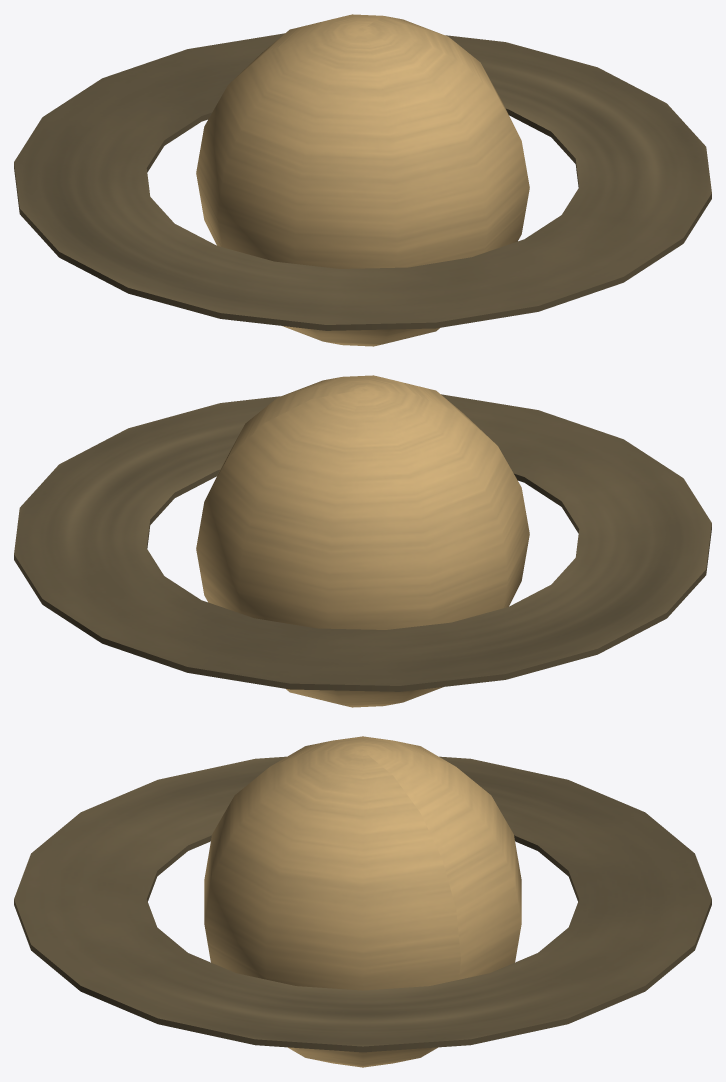
The model's file is dosei.fbx.
The picture shows the model from 3 angles, top to bottom: view 1: azimuth 30°, elevation 25°; view 2: azimuth 150°, elevation 25°; view 3: azimuth 270°, elevation 25°; orthographic projection.
Visible parts, largest first — view 1: pSphere2; view 2: pSphere2; view 3: pSphere2.
Boxes of the visible parts, left/top/right/bottom form: pSphere2: left=14, top=14, right=711, bottom=346; pSphere2: left=14, top=375, right=711, bottom=707; pSphere2: left=14, top=736, right=711, bottom=1067.
Bounding box in the file's own units: 4.18 × 2 × 4.18.
